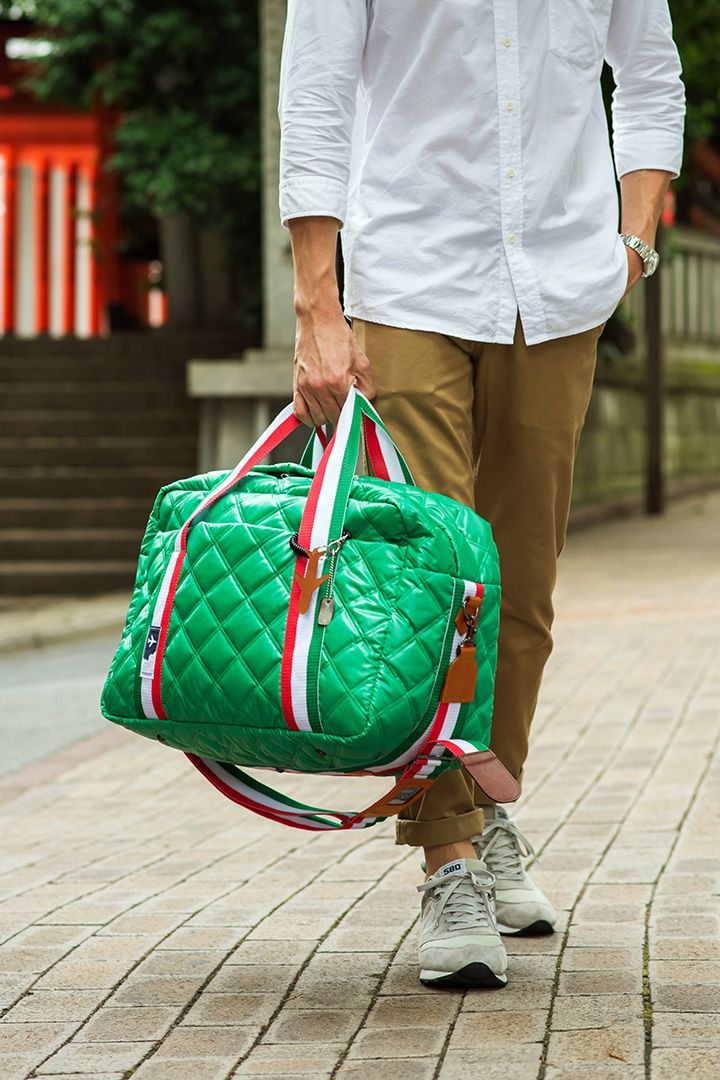nylon: (102, 385, 500, 831)
